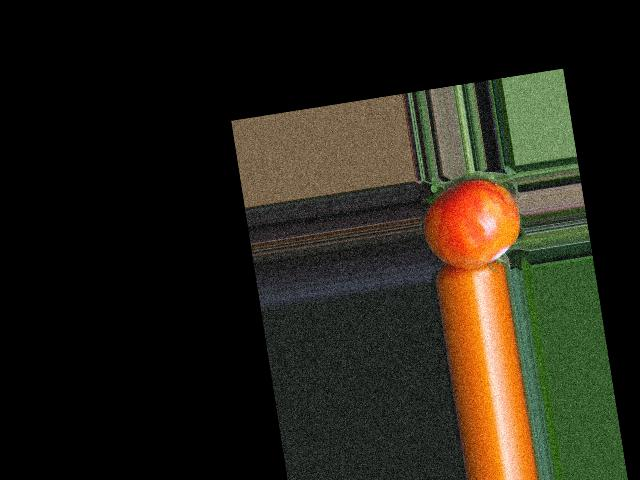tomato: (417, 174, 526, 274)
